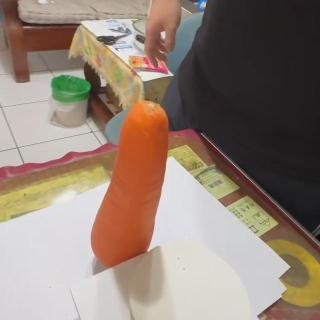carrot: (90, 101, 170, 269)
